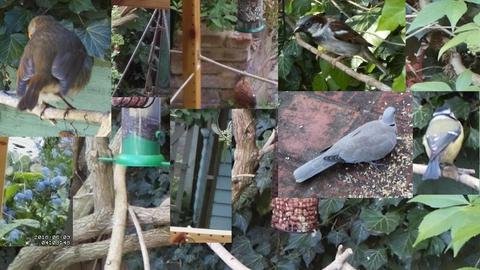blue tit: (421, 106, 464, 180)
collared dove: (293, 106, 398, 183)
robin: (15, 15, 96, 122)
sparrow: (293, 15, 391, 76)
